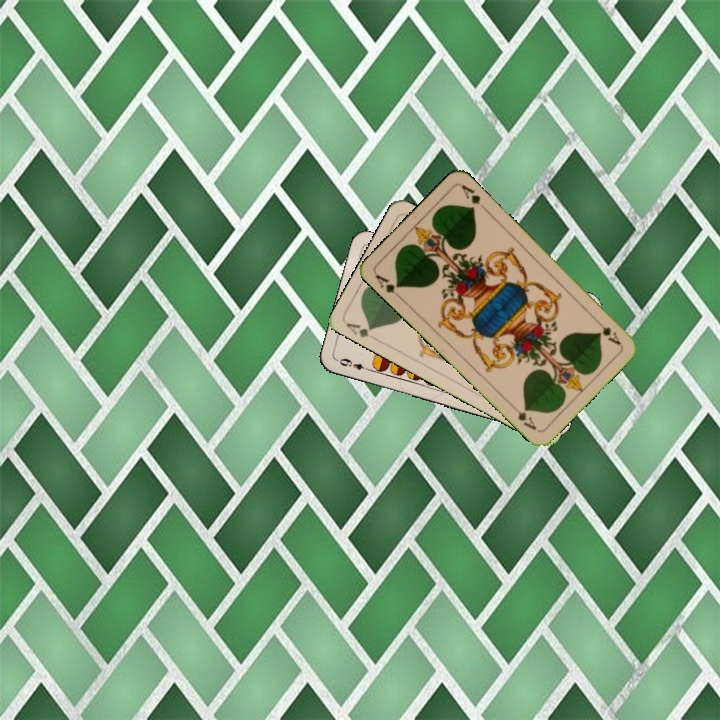E9: (333, 354, 373, 374)
GA: (371, 270, 405, 302), (591, 315, 623, 348), (342, 319, 380, 343)
